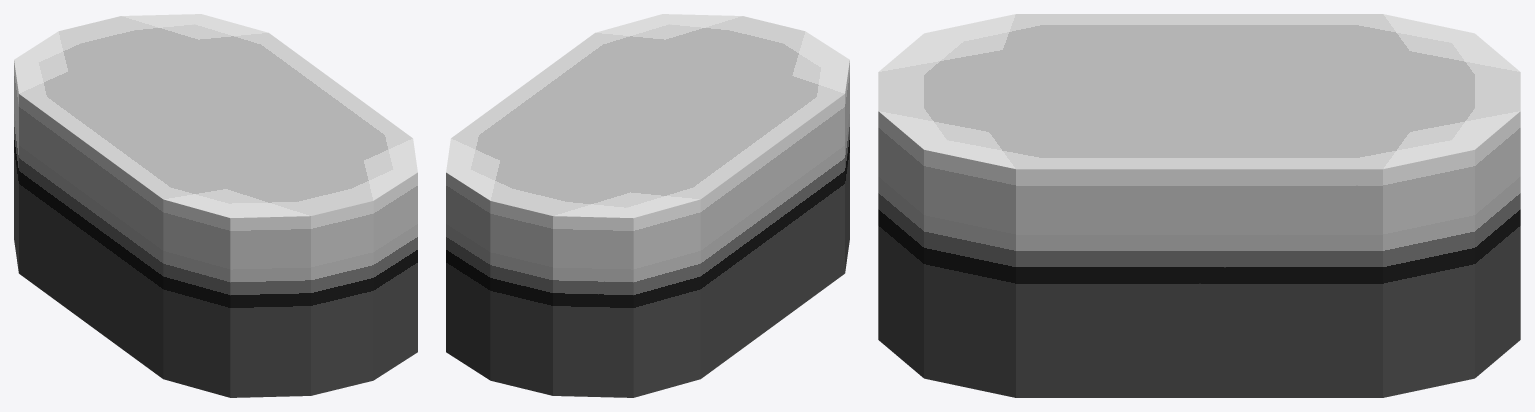
3 views of the same model, side by side, from view 1: azimuth 30°, elevation 25°; view 2: azimuth 150°, elevation 25°; view 3: azimuth 270°, elevation 25° (orthographic). The views are drawn at different scales.
Visible parts, largest first — view 1: polygon0; view 2: polygon0; view 3: polygon0.
Boxes of the visible parts, x1,y1,x2,y2 form: polygon0: (14, 14, 417, 397); polygon0: (446, 14, 849, 397); polygon0: (878, 14, 1520, 397).
Bounding box in the file's own units: 8 × 5.5 × 14.
Materials: 1 (1 with a texture image).
